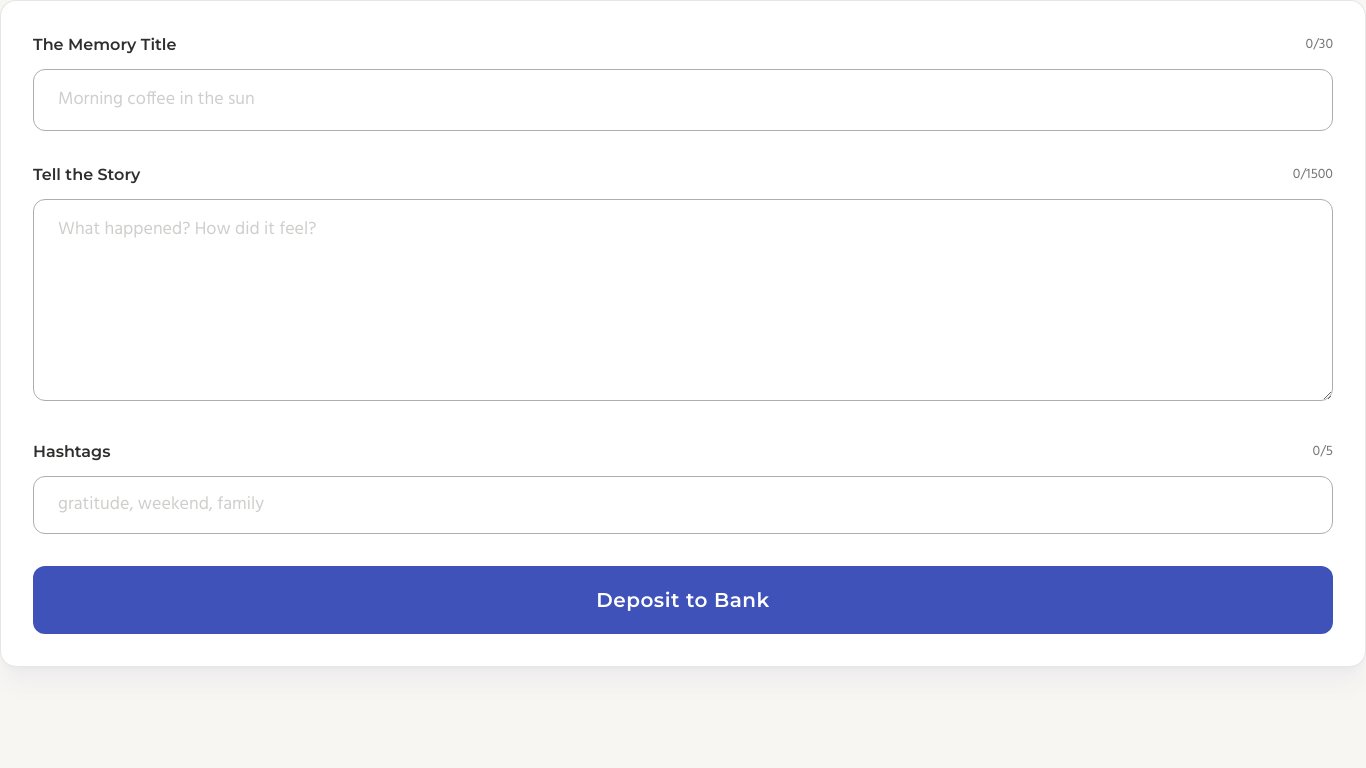
CreateMemoryCard › Form Validation › should display title validation error when title is empty
Click the button "Deposit to Bank" at (683, 600), box [33,566,1333,634]
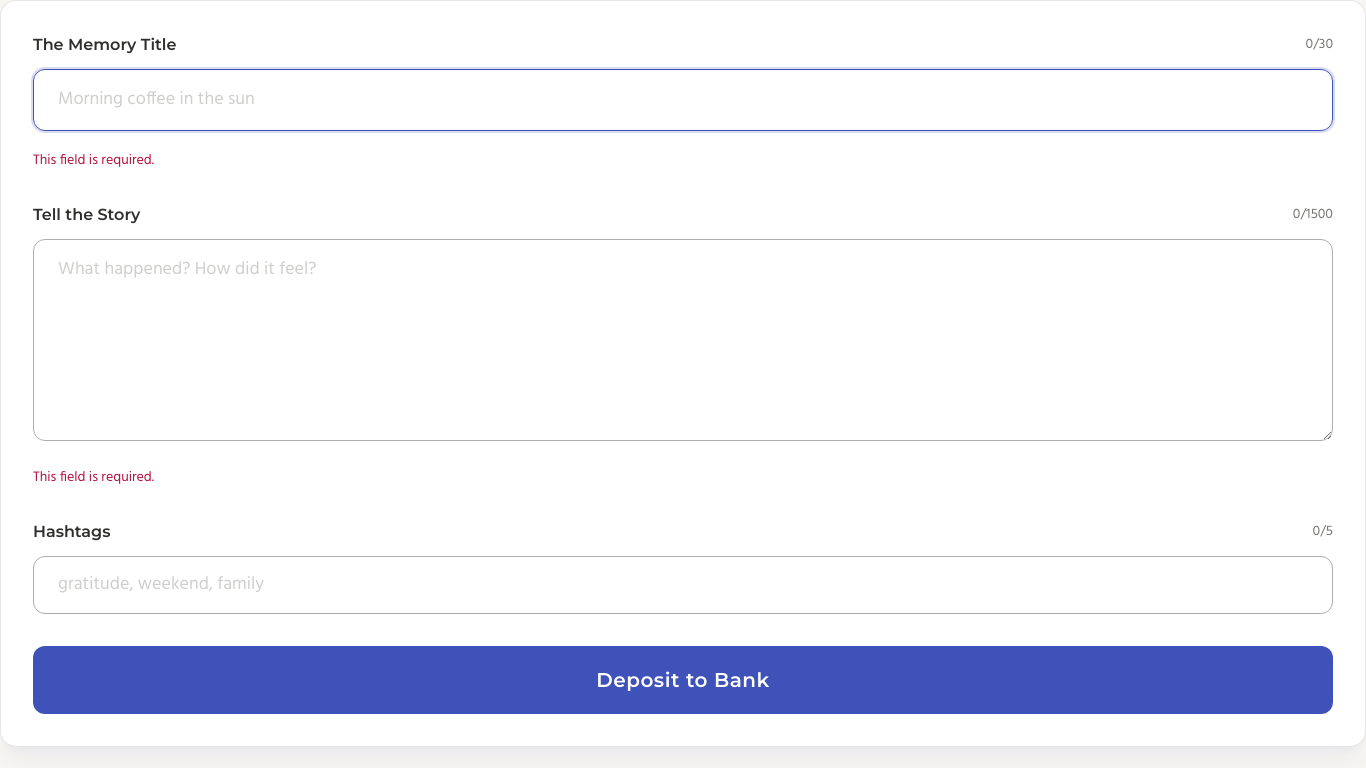
Result: the text "This field is required." below "30" is shown at [33,149,154,172]
